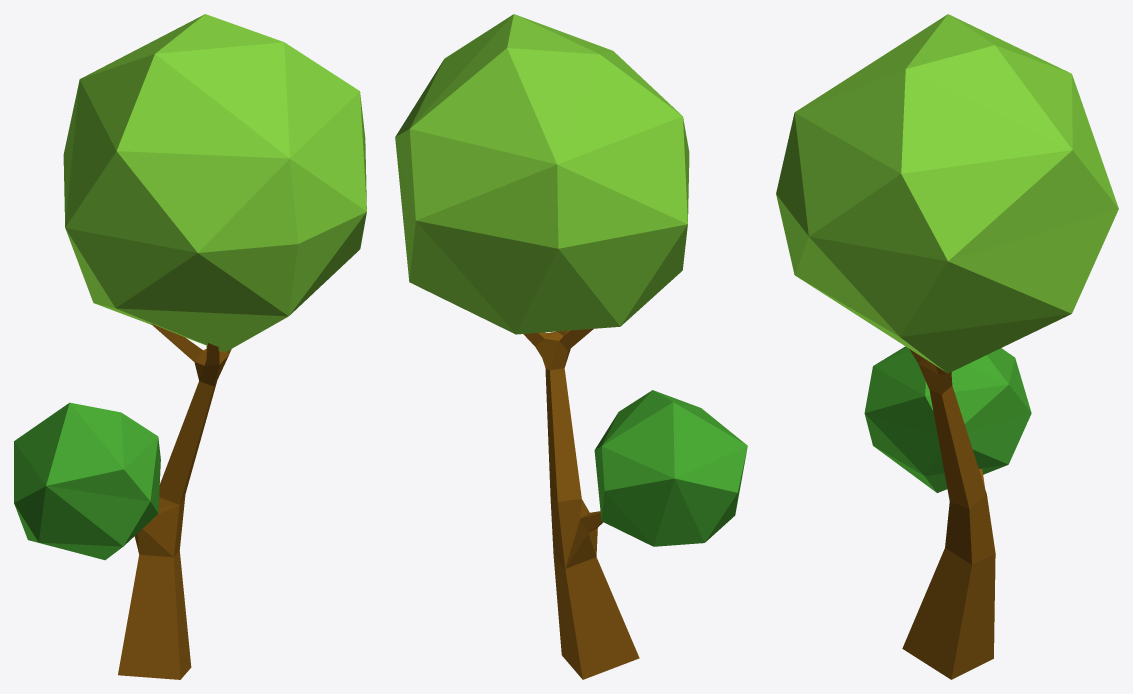
The model's file is tree9.fbx.
3 views of the same model, side by side, from view 1: azimuth 30°, elevation 25°; view 2: azimuth 150°, elevation 25°; view 3: azimuth 270°, elevation 25° (orthographic). The views are drawn at different scales.
Parts seen in each view (by area): view 1: Icosphere, Icosphere.001, Cube; view 2: Icosphere, Icosphere.001, Cube; view 3: Icosphere, Cube, Icosphere.001.
Boxes of the visible parts, box(x1,y1,x2,y2) form: Icosphere: box(63, 14, 366, 352); Icosphere.001: box(14, 402, 160, 560); Cube: box(118, 324, 231, 679); Icosphere: box(395, 14, 689, 334); Icosphere.001: box(594, 390, 747, 546); Cube: box(523, 328, 639, 679); Icosphere: box(776, 14, 1118, 373); Cube: box(902, 349, 995, 679); Icosphere.001: box(864, 346, 1031, 492).
Bounding box in the file's own units: 157 × 268 × 128.
